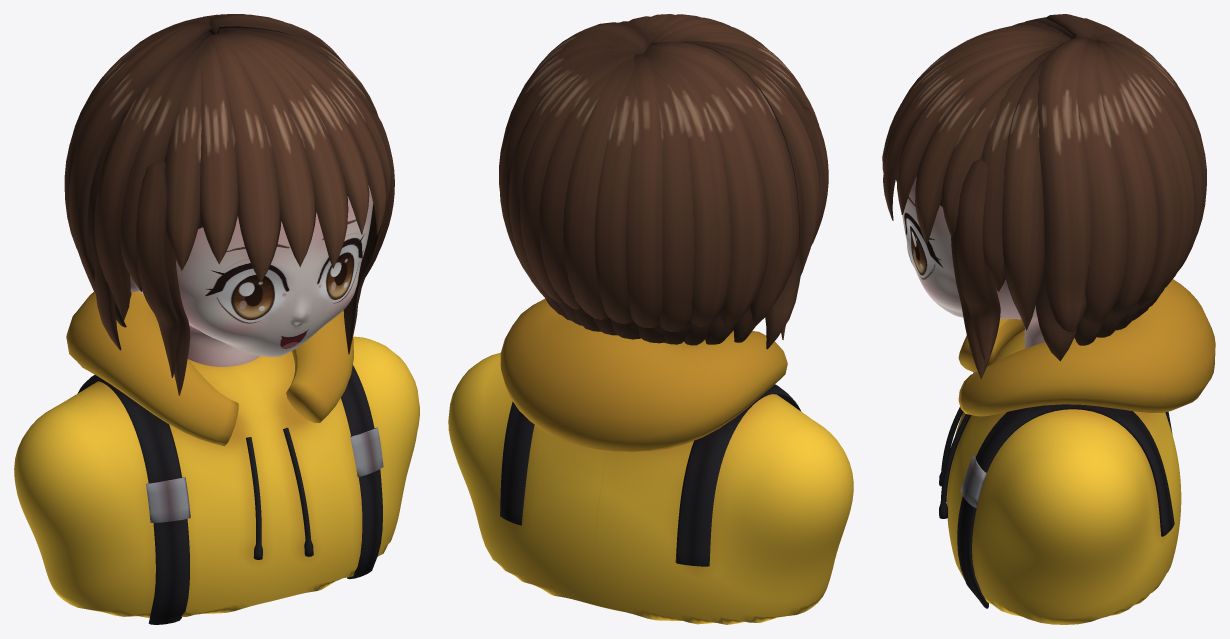
File: anime_head.glb
3 views of the same model, side by side, from view 1: azimuth 30°, elevation 25°; view 2: azimuth 150°, elevation 25°; view 3: azimuth 270°, elevation 25° (orthographic). The views are drawn at different scales.
Parts seen in each view (by area): view 1: Hoodie, Hair, Face, Straps; view 2: Hoodie, Hair, Straps; view 3: Hair, Hoodie, Straps, Face.
Boxes of the visible parts, x1,y1,x2,y2 form: Hoodie: (14,291,419,617); Hair: (64,14,394,395); Face: (130,185,373,366); Straps: (77,365,383,624); Hoodie: (448,299,853,624); Hair: (499,14,828,349); Straps: (500,384,801,566); Hair: (882,14,1206,379); Hoodie: (946,279,1215,624); Straps: (939,372,1174,608); Face: (902,176,1044,348).
Bounding box in the file's own units: 0.3265 × 0.4381 × 0.2522.
4 materials, 4 textured.
